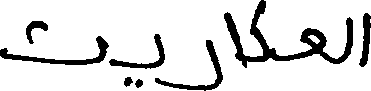ا: (221, 9, 242, 80), (356, 10, 368, 67)
ث: (0, 18, 107, 65)
ر: (191, 38, 222, 90)
ع: (299, 25, 327, 60)
ك: (246, 0, 269, 63)
ل: (341, 14, 352, 63)
ي: (124, 31, 164, 86)
